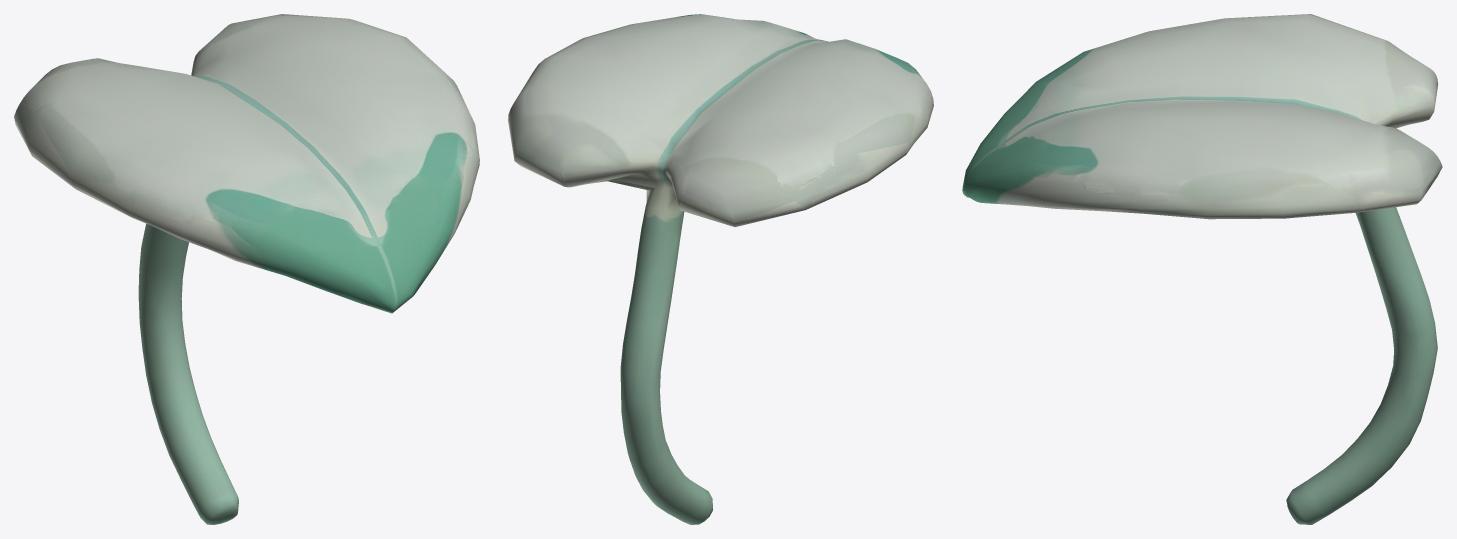
Rendered from heart_albo_2672_3.glb.
The picture shows the model from 3 angles, left to right: view 1: azimuth 30°, elevation 25°; view 2: azimuth 150°, elevation 25°; view 3: azimuth 270°, elevation 25°; orthographic projection. The views are drawn at different scales.
Size of the model in its own units: 1.72 by 2 by 1.97.
1 material, 1 textured.
